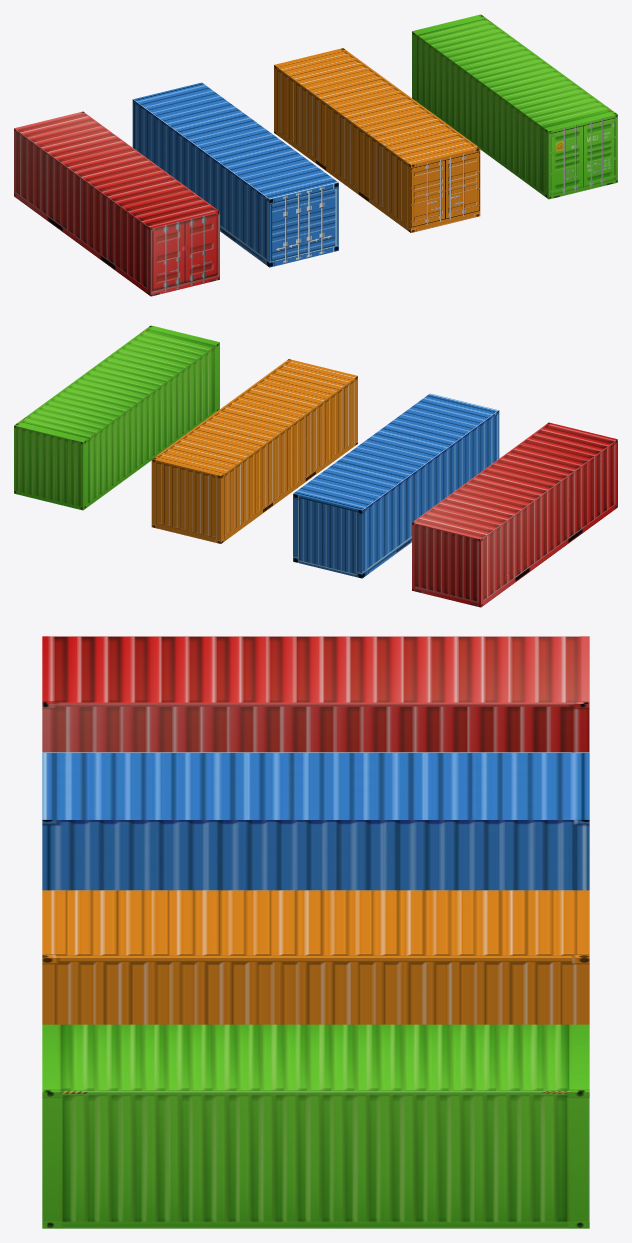
File: container.fbx
3 renders of one model, top to bottom at view 1: azimuth 30°, elevation 25°; view 2: azimuth 150°, elevation 25°; view 3: azimuth 270°, elevation 25°, orthographic. The views are drawn at different scales.
Parts seen in each view (by area): view 1: Box003, Box001, Box002, Box004; view 2: Box003, Box001, Box002, Box004; view 3: Box002, Box004, Box003, Box001.
Part boxes in pixels (x1,y1,x2,y2): Box003: (274, 48, 480, 232); Box001: (14, 111, 219, 296); Box002: (412, 14, 617, 199); Box004: (132, 82, 338, 267); Box003: (151, 359, 357, 543); Box001: (412, 422, 617, 607); Box002: (14, 325, 219, 510); Box004: (293, 393, 499, 578); Box002: (42, 1024, 589, 1228); Box004: (42, 752, 589, 890); Box003: (42, 890, 589, 1024); Box001: (42, 636, 589, 752).
Bounding box in the file's own units: 23.84 × 3.32 × 12.1.
Materials: 1 (1 with a texture image).
